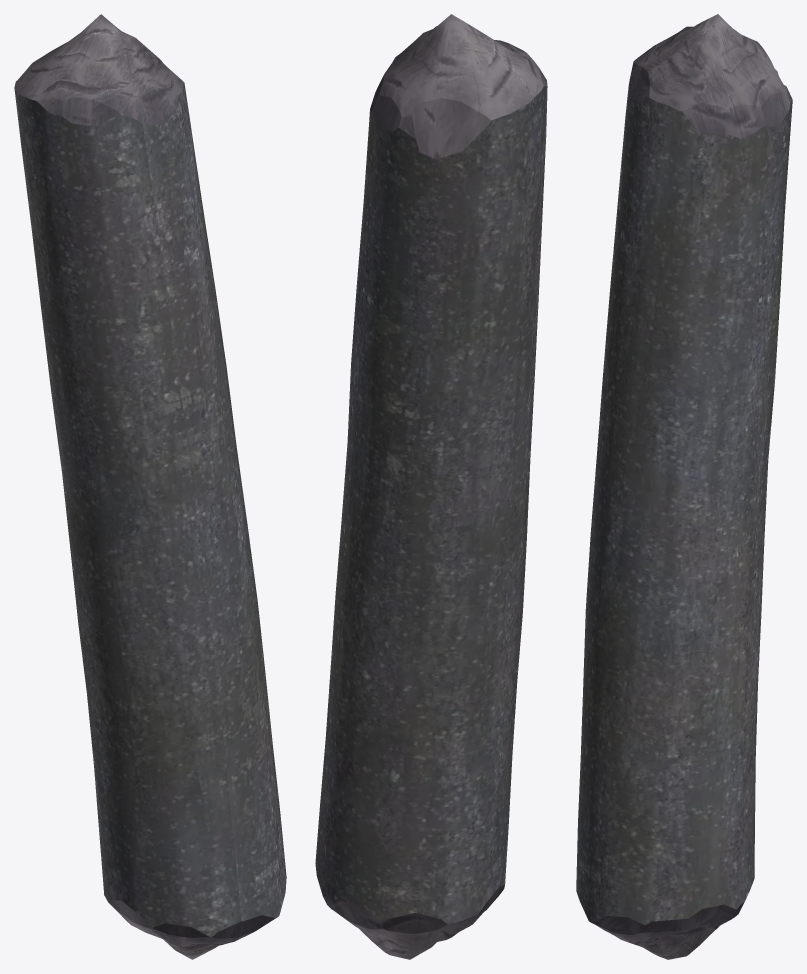
3 views of the same model, side by side, from view 1: azimuth 30°, elevation 25°; view 2: azimuth 150°, elevation 25°; view 3: azimuth 270°, elevation 25° (orthographic). The views are drawn at different scales.
Visible parts, largest first — view 1: SM_FH_Ash_Tree_01_quarter_04_LOD0; view 2: SM_FH_Ash_Tree_01_quarter_04_LOD0; view 3: SM_FH_Ash_Tree_01_quarter_04_LOD0.
Part boxes in pixels (bbox=[...]): SM_FH_Ash_Tree_01_quarter_04_LOD0: bbox=[14, 14, 286, 959]; SM_FH_Ash_Tree_01_quarter_04_LOD0: bbox=[315, 14, 547, 959]; SM_FH_Ash_Tree_01_quarter_04_LOD0: bbox=[576, 14, 792, 959].
Bounding box in the file's own units: 0.6232 × 2.51 × 0.5378.
Materials: 1 (1 with a texture image).
